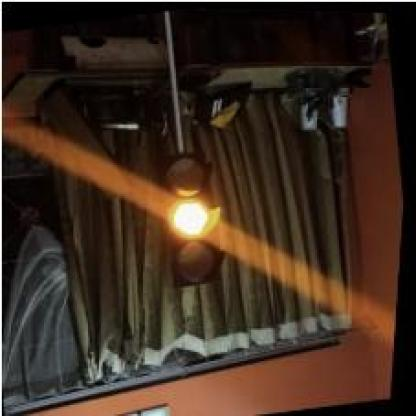yellow: (154, 146, 231, 286)
